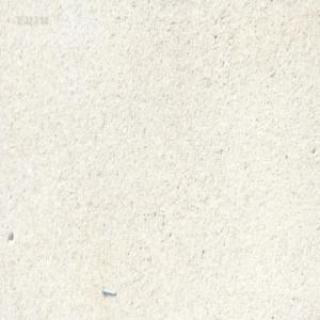Nailtrack_idkeyframe: (100, 284, 116, 295)
